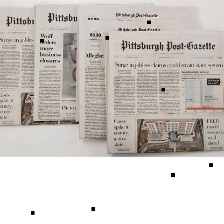news_paper: (30, 0, 219, 124), (74, 18, 205, 144), (104, 28, 224, 156), (0, 4, 72, 131)
